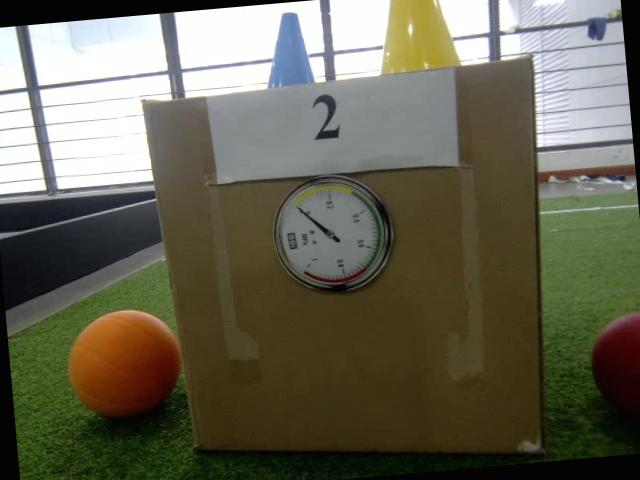2: (308, 92, 342, 139)
Dashboard: (269, 172, 396, 297)
blue_barrel: (259, 10, 316, 90)
orange_ball: (61, 303, 189, 424)
red_ball: (584, 309, 640, 433)
ssi: (286, 230, 298, 252)
yellow_barrel: (372, 0, 461, 74)
